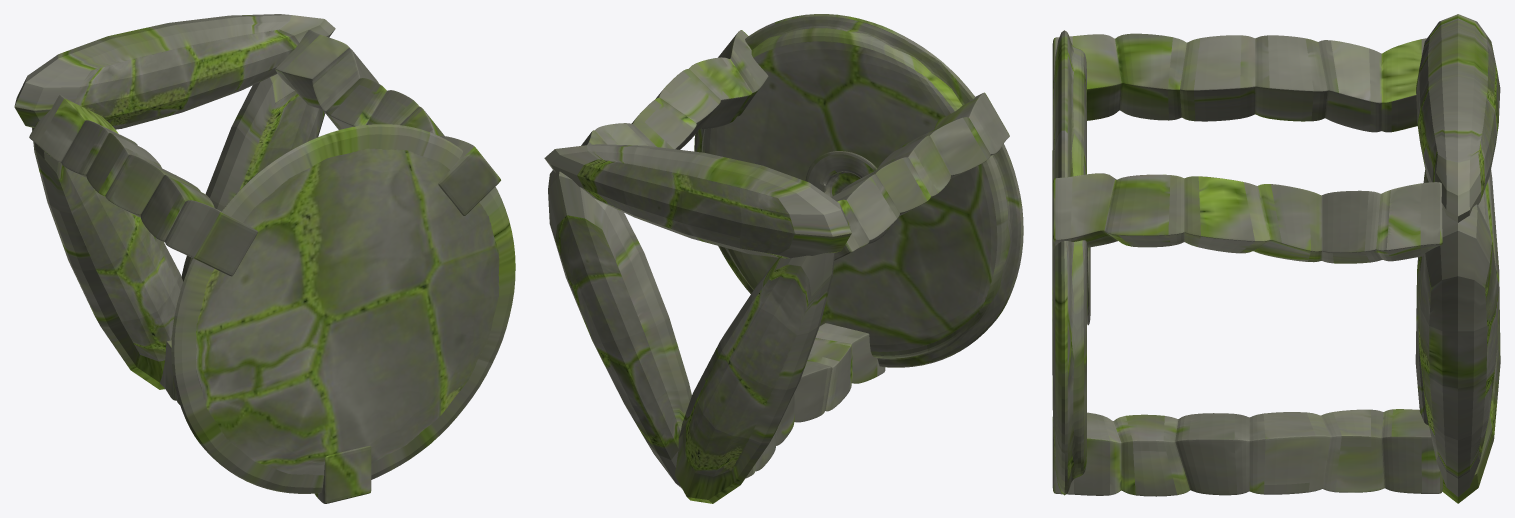
Rendered from Shrine.fbx.
The picture shows the model from 3 angles, left to right: view 1: azimuth 30°, elevation 25°; view 2: azimuth 150°, elevation 25°; view 3: azimuth 270°, elevation 25°; orthographic projection. The views are drawn at different scales.
Visible parts, largest first — view 1: Cube; view 2: Cube; view 3: Cube.
Boxes of the visible parts, <box> form: Cube: <box>14,14,515,503</box>; Cube: <box>544,14,1023,503</box>; Cube: <box>1052,14,1500,503</box>.
Size of the model in its own units: 196 by 208 by 189.
